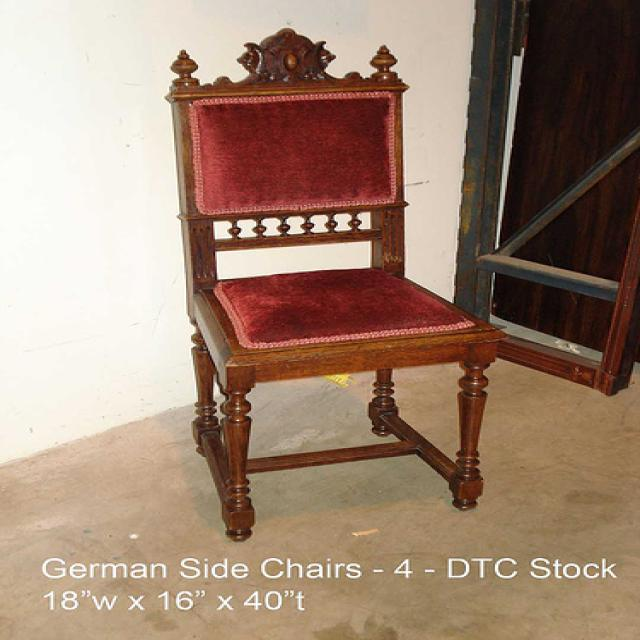chair: (166, 29, 504, 539)
